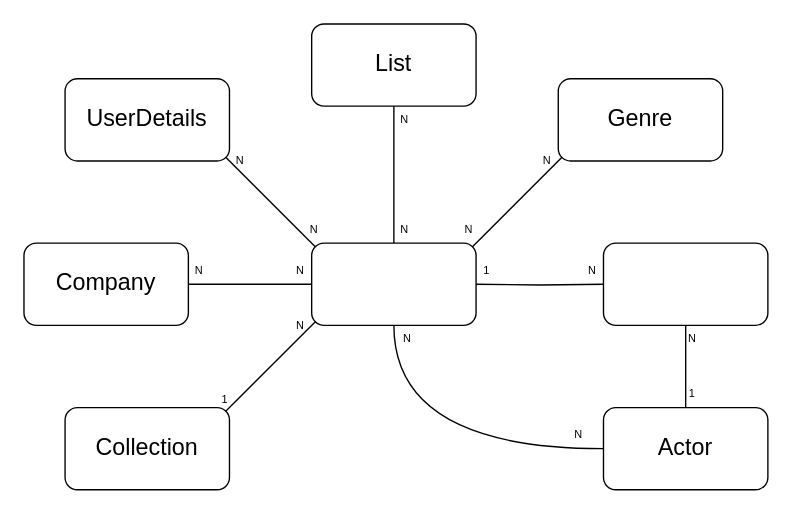
The diagram is 792 pixels wide and 514 high, and some of its shapes have lost their labels. Each missing label, with the centre of its shape:
"ActorRole" belongs at pixel 685 283.
"Movie" belongs at pixel 393 283.
